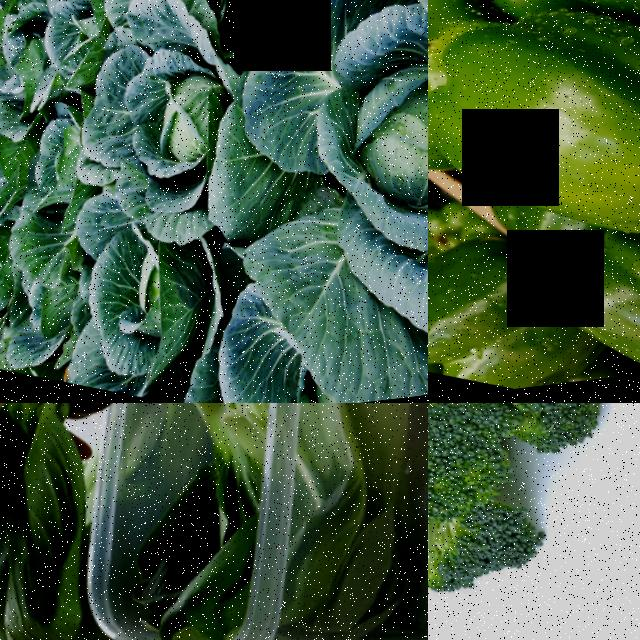0: (428, 488, 555, 640), (428, 403, 515, 568), (440, 403, 602, 432)
bell pepper: (438, 0, 640, 270), (428, 203, 574, 403), (567, 233, 640, 387), (428, 0, 480, 142)
bok choy: (114, 403, 294, 636), (0, 403, 103, 640)
cabbage: (232, 0, 428, 329), (67, 31, 246, 229), (43, 214, 211, 403), (0, 220, 100, 362), (8, 0, 133, 104), (8, 89, 106, 218), (99, 0, 279, 63), (0, 0, 71, 122), (0, 84, 53, 242), (0, 183, 36, 372)
